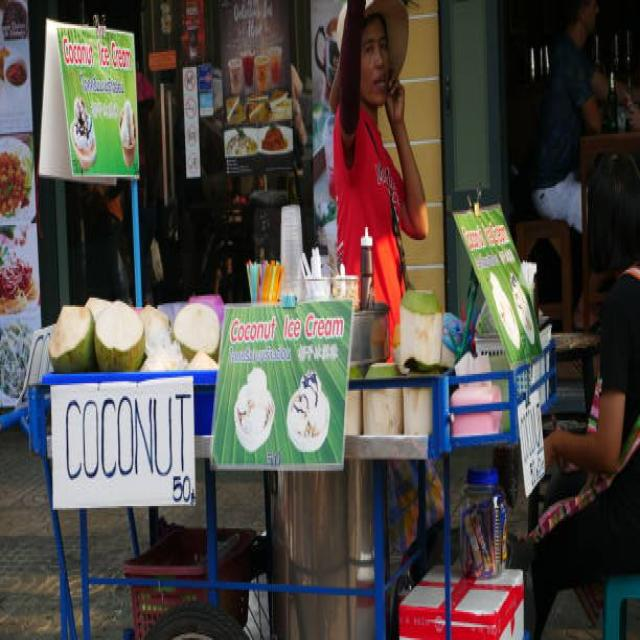Emperan: (17, 0, 581, 640)
